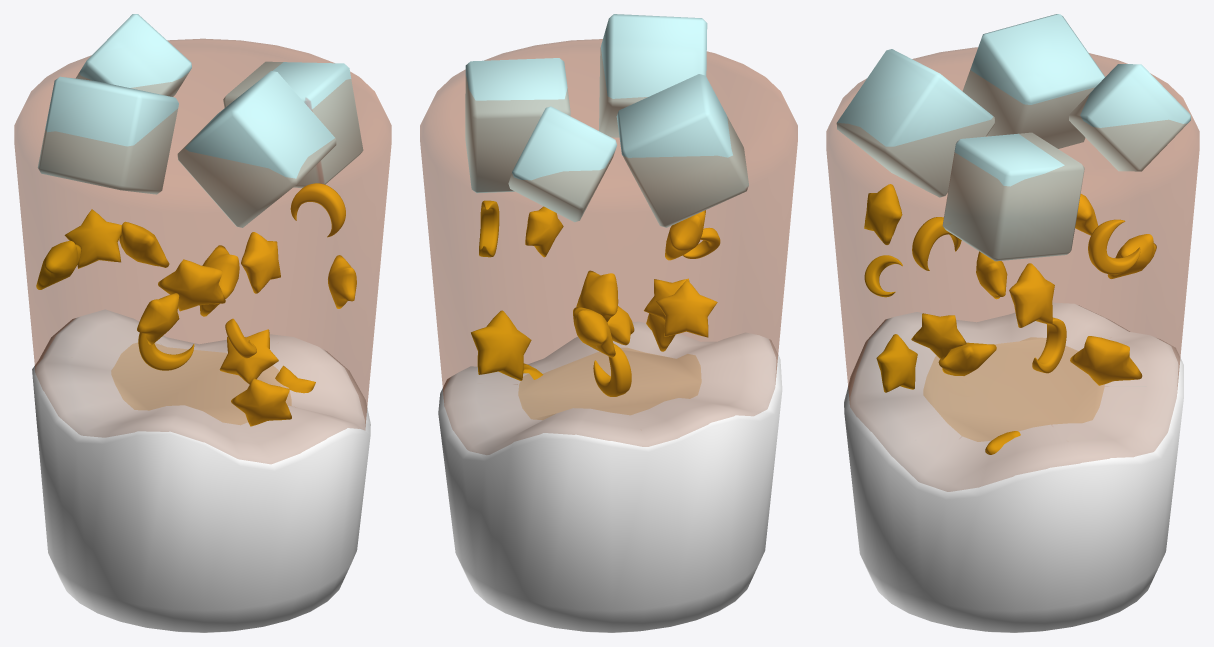
3 views of the same model, side by side, from view 1: azimuth 30°, elevation 25°; view 2: azimuth 150°, elevation 25°; view 3: azimuth 270°, elevation 25° (orthographic).
Parts seen in each view (by area): view 1: Test; view 2: Test; view 3: Test.
Boxes of the visible parts, x1,y1,x2,y2 form: Test: [14, 14, 391, 632]; Test: [420, 14, 797, 632]; Test: [826, 14, 1199, 632].
Bounding box in the file's own units: 8.63 × 13.48 × 8.58.
1 material, 1 textured.
